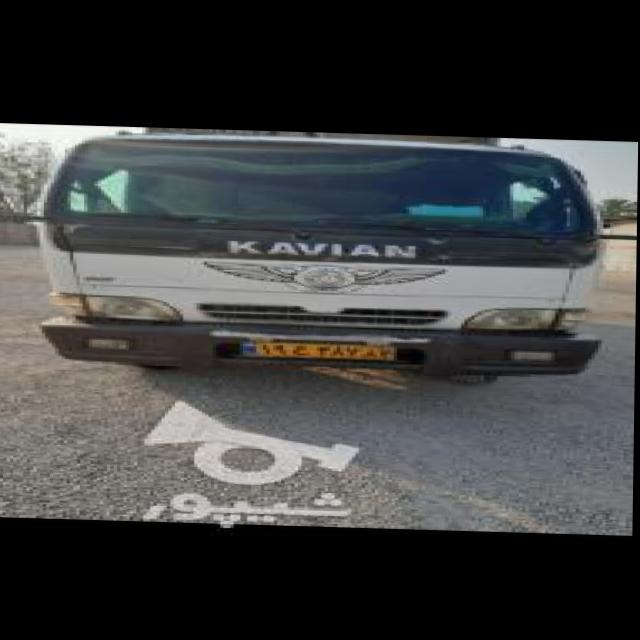licence: (234, 336, 398, 359)
